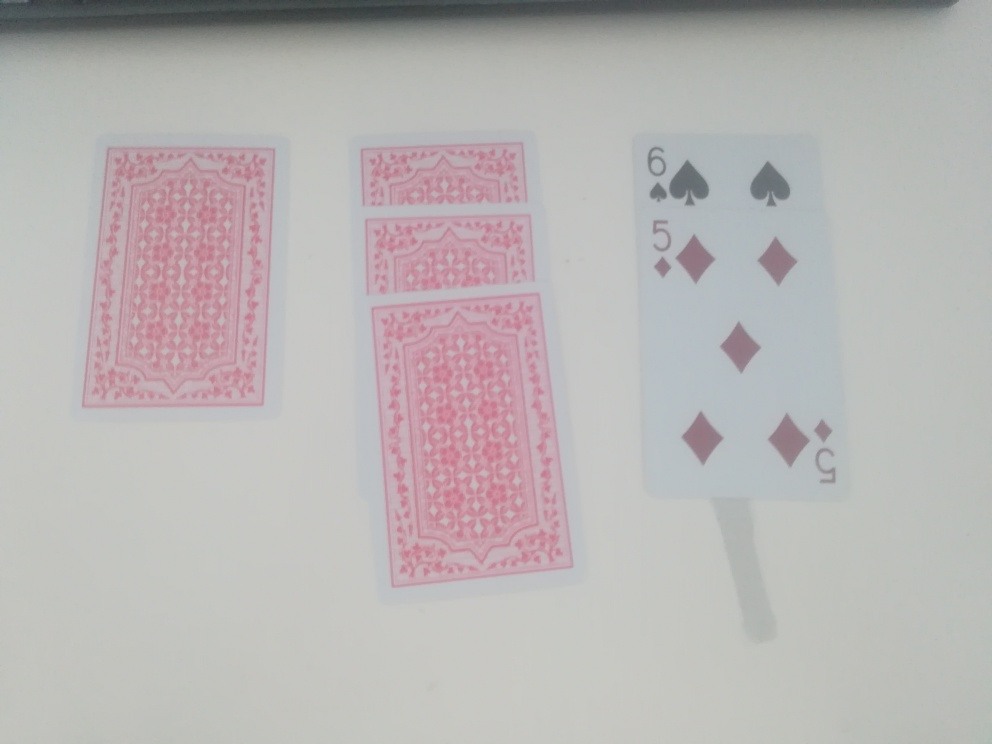5D: (643, 217, 682, 290)
6S: (641, 144, 674, 208)
BACK: (366, 304, 576, 581), (95, 137, 276, 411), (360, 217, 541, 295), (357, 144, 531, 209)
